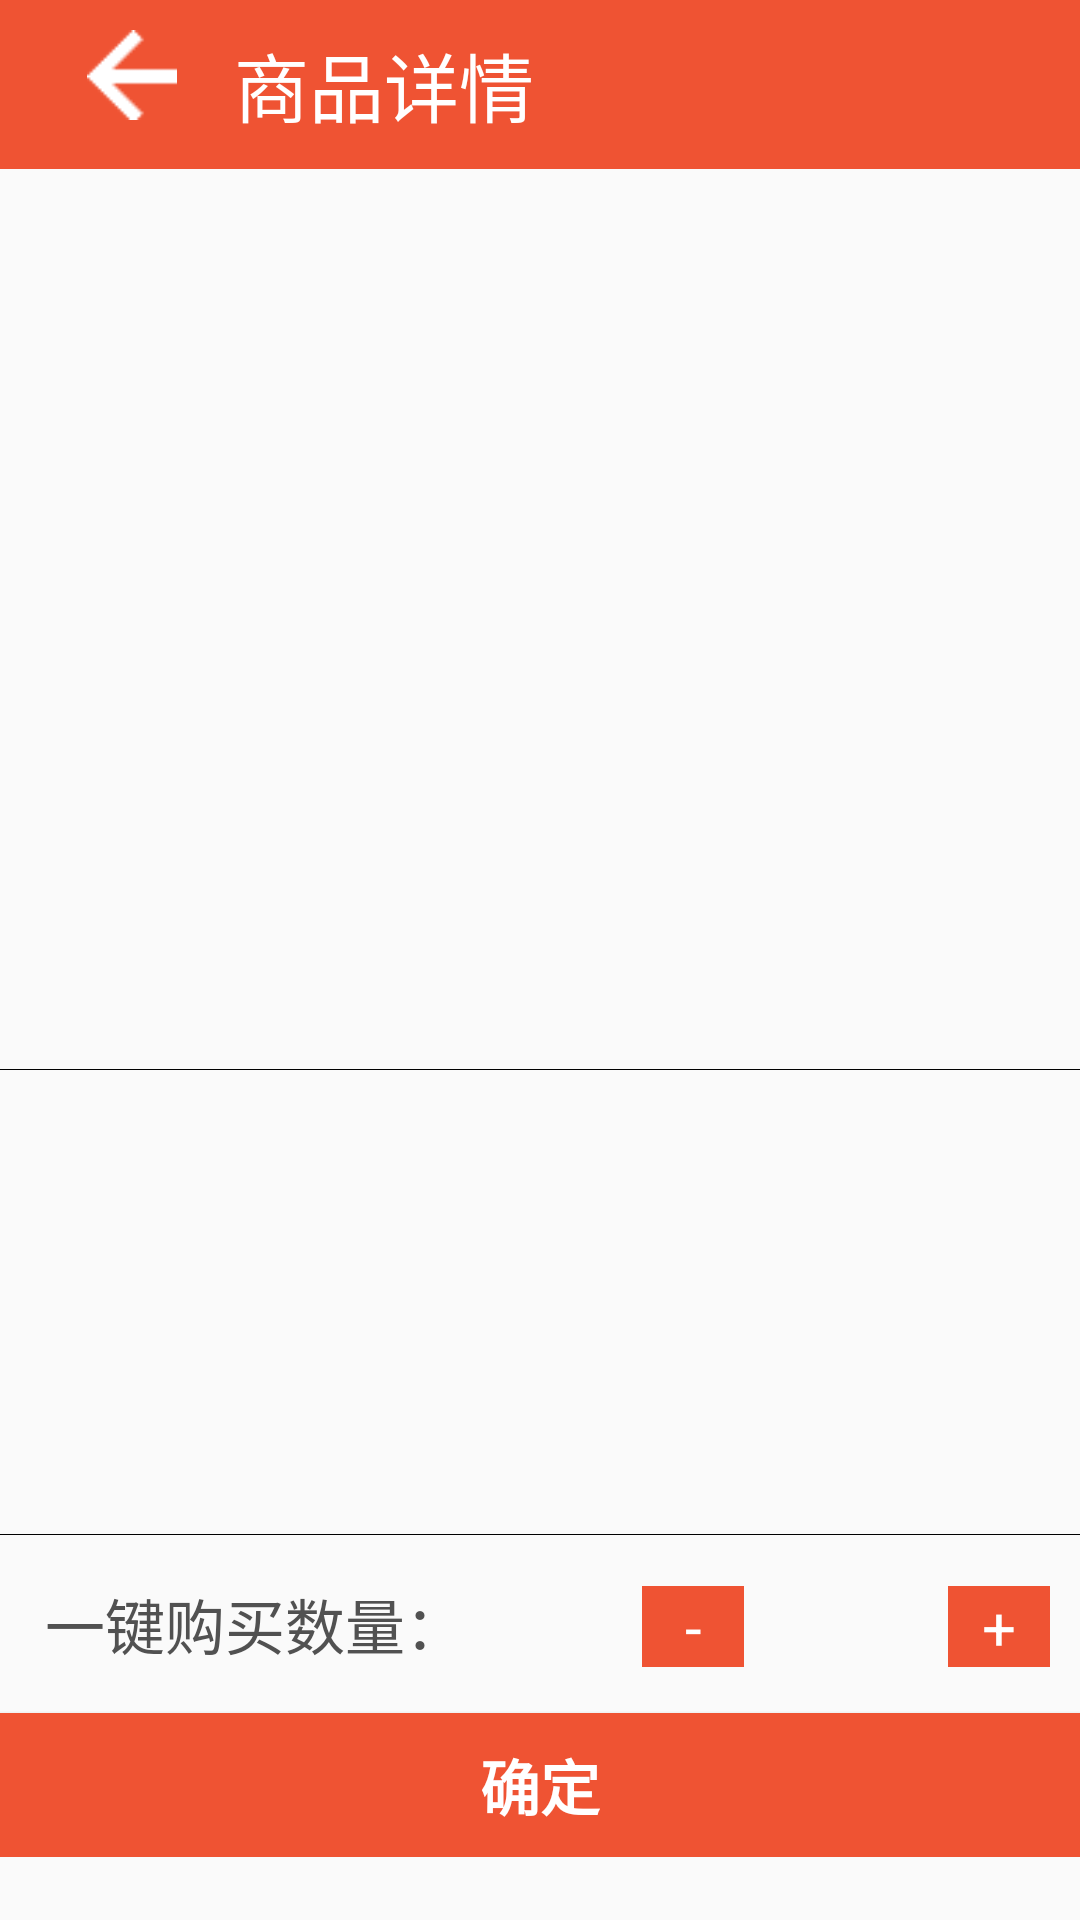

Icons on this 1080 × 1920 Android screen, each with the point to tap as (x,y):
return last: (132,75)
